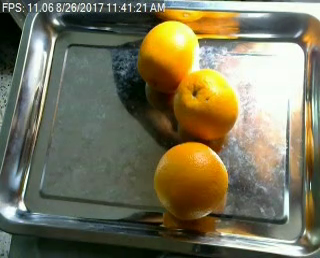Orange: (153, 141, 228, 220), (173, 68, 238, 140), (136, 20, 199, 90)
